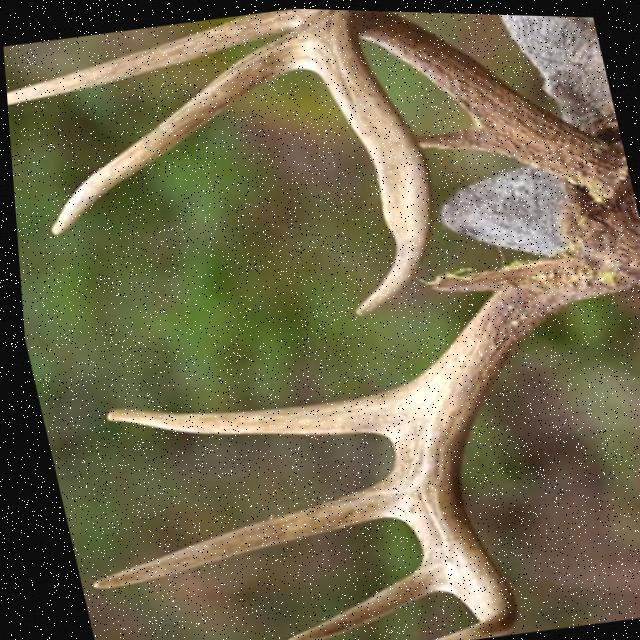L-F: (401, 254, 632, 640)
L-G1: (416, 264, 498, 289)
L-G2: (94, 376, 410, 438)
L-G3: (80, 477, 389, 591)
L-G4: (275, 563, 431, 640)
R-F: (308, 7, 626, 316)
R-G1: (413, 122, 504, 152)
R-G2: (5, 7, 319, 107)
R-G3: (45, 31, 311, 235)
